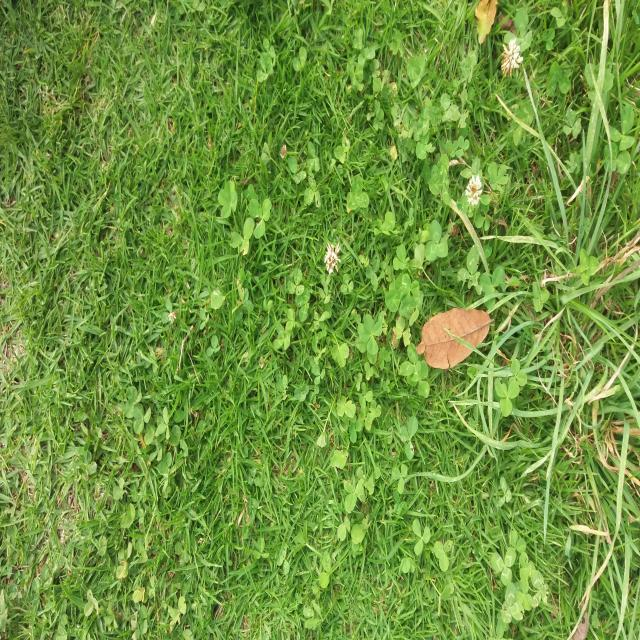Four Leaf Clover: (218, 180, 237, 218)
